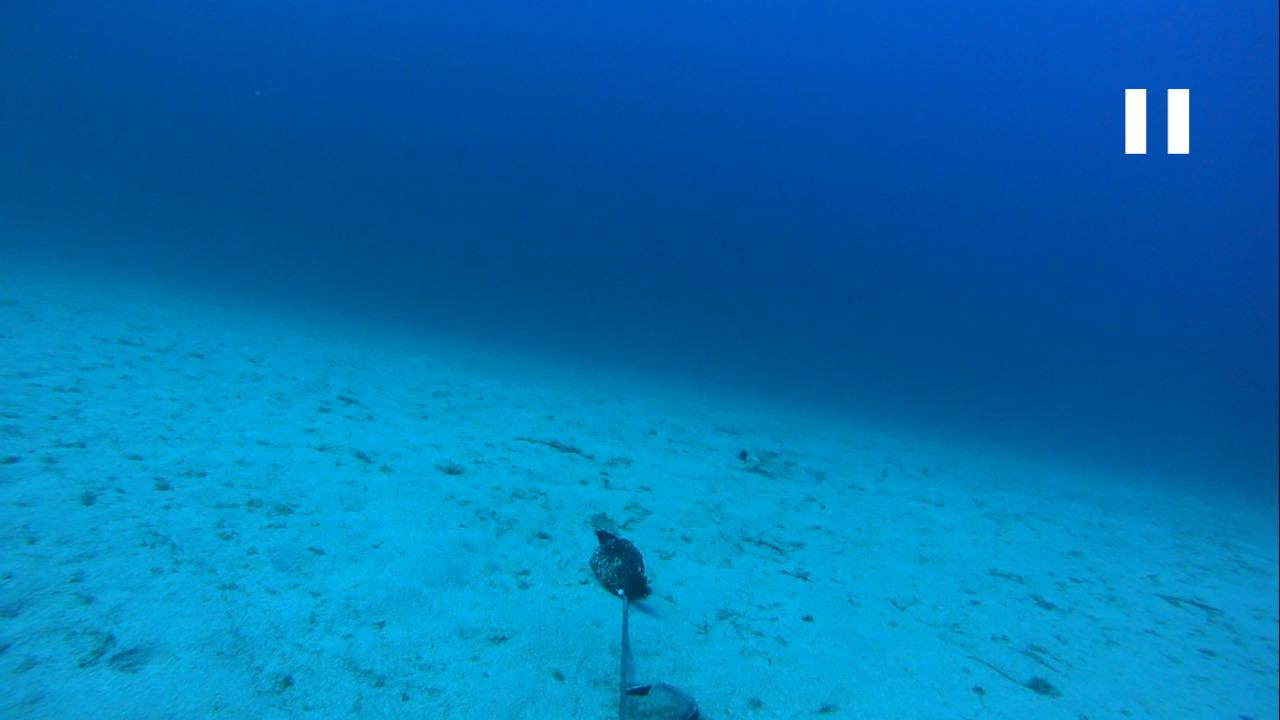dactylopterus: (723, 438, 850, 489)
